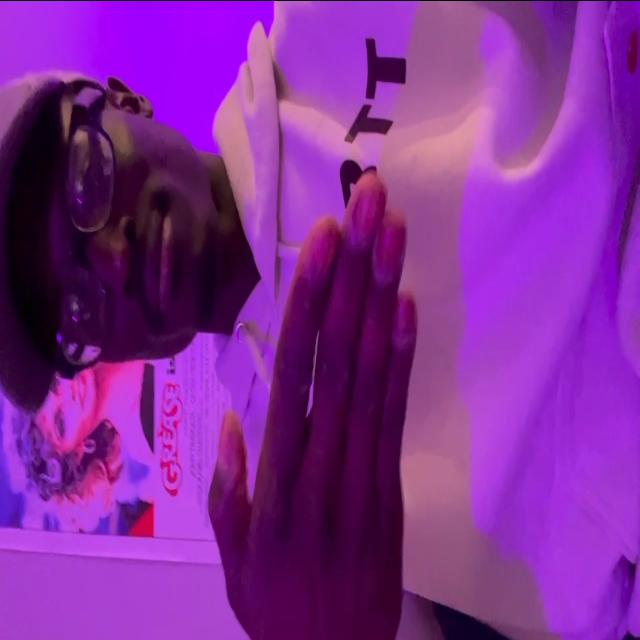Paper: (206, 173, 415, 640)
